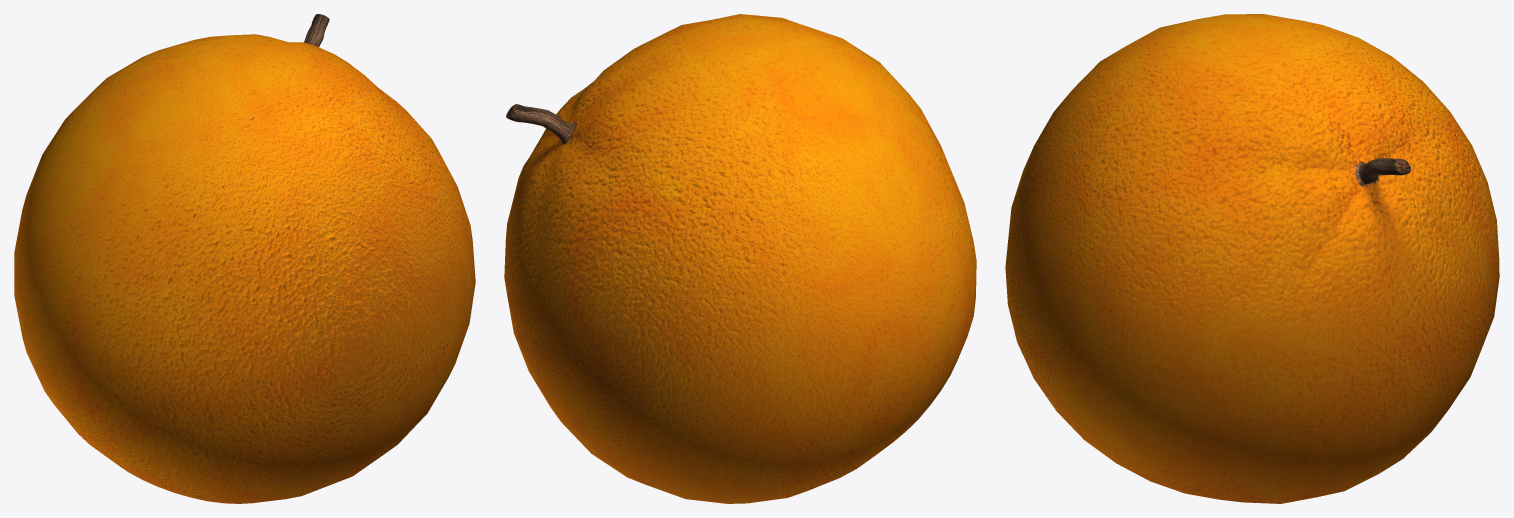
Rendered from orange.glb.
3 views of the same model, side by side, from view 1: azimuth 30°, elevation 25°; view 2: azimuth 150°, elevation 25°; view 3: azimuth 270°, elevation 25° (orthographic). The views are drawn at different scales.
Parts seen in each view (by area): view 1: Orange LP; view 2: Orange LP; view 3: Orange LP.
Part boxes in pixels (box(x1,y1,x2,y2)): Orange LP: box(14, 14, 475, 503); Orange LP: box(504, 14, 976, 503); Orange LP: box(1005, 14, 1499, 503).
Bounding box in the file's own units: 0.6509 × 0.6682 × 0.666.
Materials: 1 (1 with a texture image).
